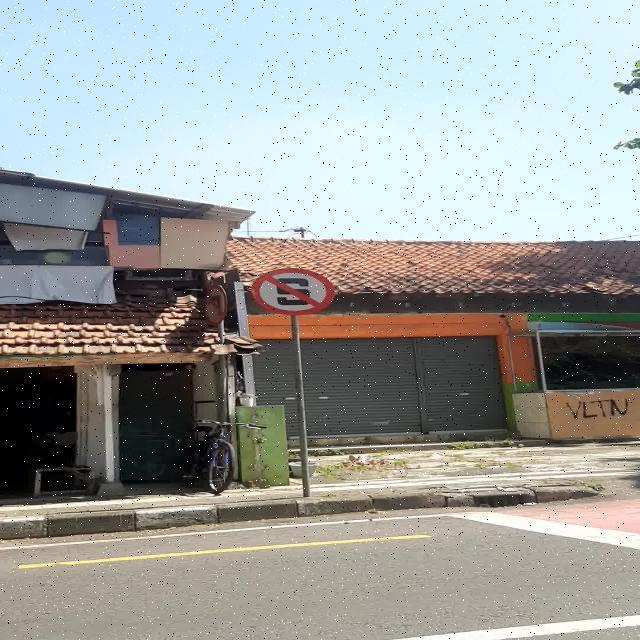Dilarang Berhenti: (251, 268, 334, 315)
